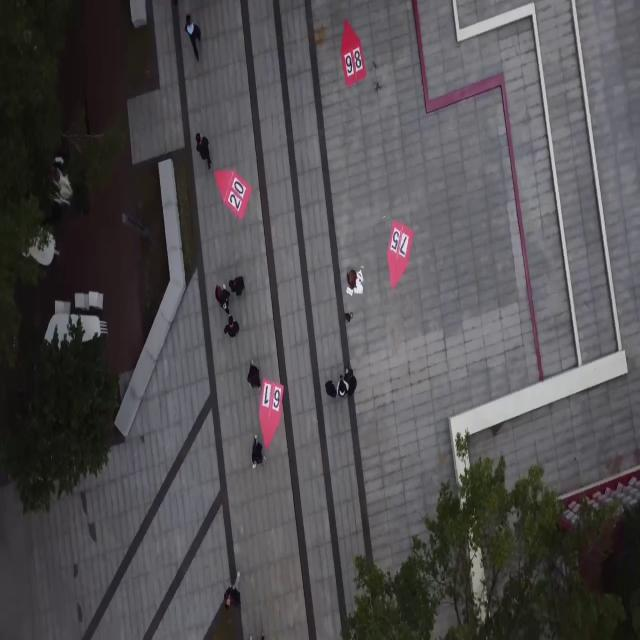-sign-: (382, 214, 416, 298), (212, 164, 256, 228), (339, 13, 372, 91), (256, 376, 286, 450)
